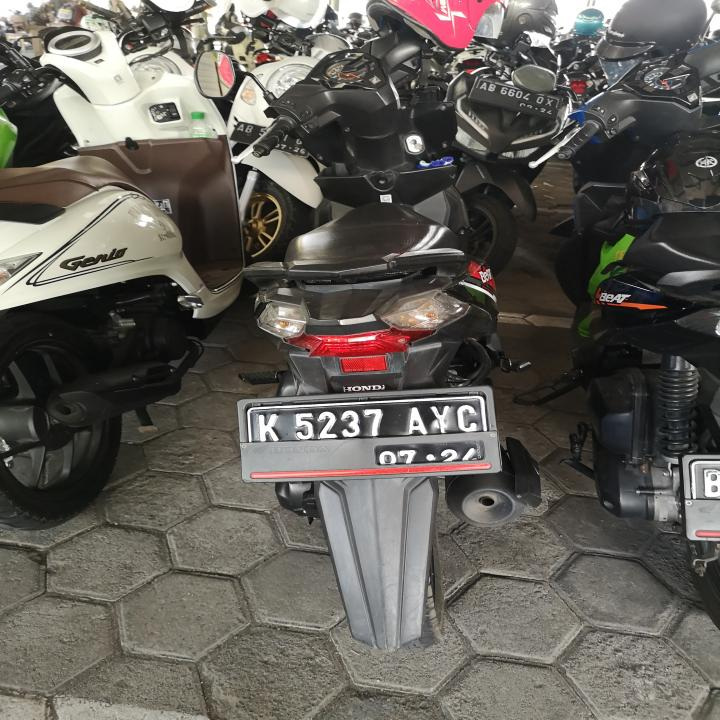plate: (246, 391, 488, 477), (466, 74, 562, 121)
